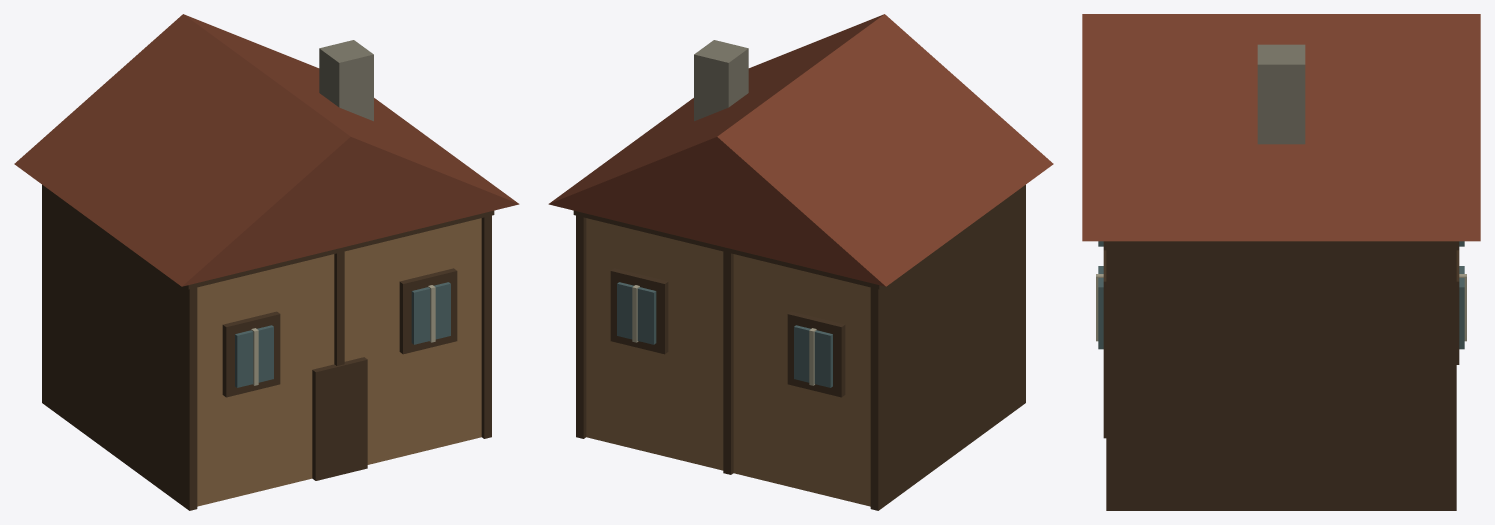
The picture shows the model from 3 angles, left to right: view 1: azimuth 30°, elevation 25°; view 2: azimuth 150°, elevation 25°; view 3: azimuth 270°, elevation 25°; orthographic projection. The views are drawn at different scales.
Parts seen in each view (by area): view 1: alpine-body; view 2: alpine-body; view 3: alpine-body.
Part boxes in pixels (x1,y1,x2,y2): alpine-body: [14, 14, 519, 510]; alpine-body: [548, 14, 1053, 510]; alpine-body: [1082, 14, 1480, 510].
Size of the model in its own units: 7.8 by 7.7 by 6.7.
